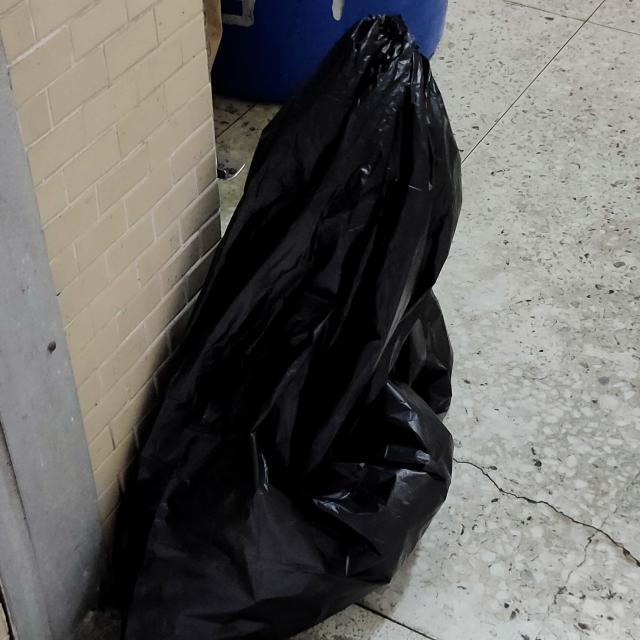Trashbag: (79, 11, 475, 635)
